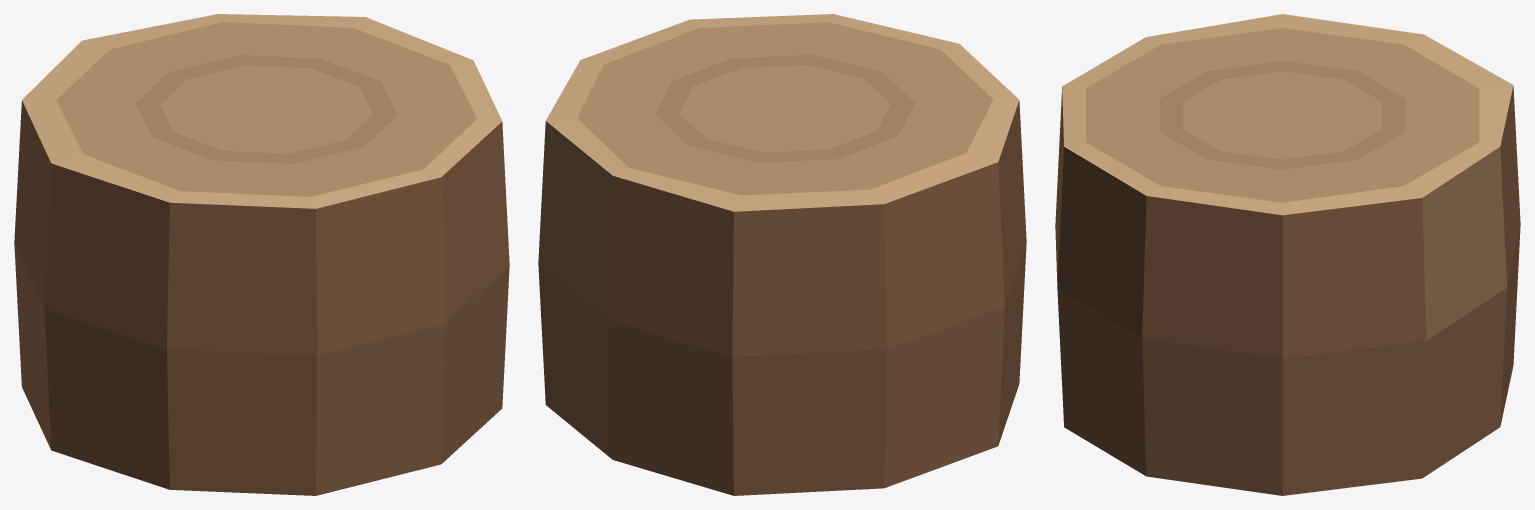
File: Cut_Stump.glb
3 views of the same model, side by side, from view 1: azimuth 30°, elevation 25°; view 2: azimuth 150°, elevation 25°; view 3: azimuth 270°, elevation 25° (orthographic). The views are drawn at different scales.
Visible parts, largest first — view 1: Cut_Stump; view 2: Cut_Stump; view 3: Cut_Stump.
Boxes of the visible parts, box(x1,y1,x2,y2) form: Cut_Stump: box(14, 14, 509, 495); Cut_Stump: box(538, 14, 1026, 495); Cut_Stump: box(1055, 14, 1520, 495).
Size of the model in its own units: 0.6664 by 0.426 by 0.6311.
